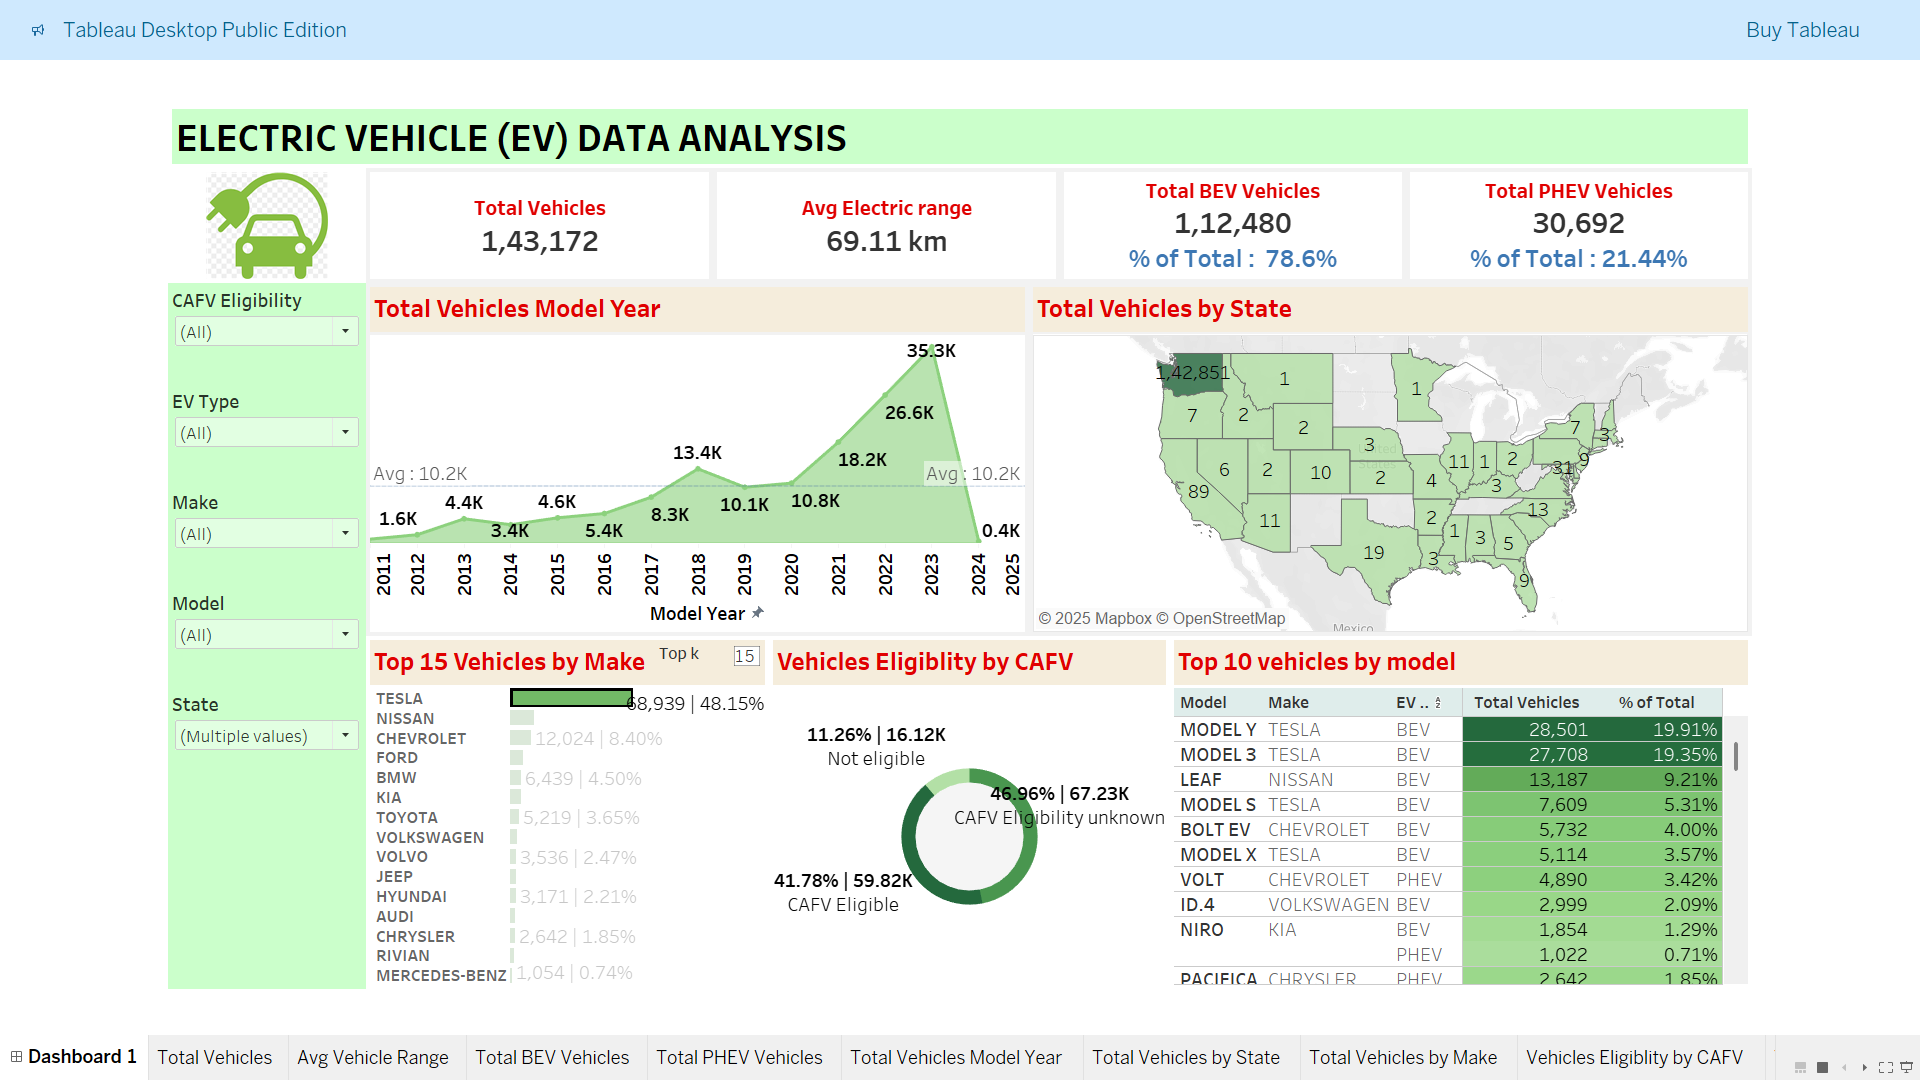

The page's visual inventory and layout, read from the dashboard file:
{"tool":"tableau","page":{"name":"Dashboard 1","canvas":[1600,900],"ordinal":0},"visuals":[{"type":"title","box":[8,8,1584,63]},{"type":"image","param":"C:/Users/deepa/Desktop/Tableau/electrical_report/download (1).png","box":[8,71,198,115]},{"type":"worksheet","title":"Total Vehicles","mark":"Automatic","box":[206,71,347,115]},{"type":"worksheet","title":"Avg Vehicle Range","mark":"Automatic","box":[553,71,347,115]},{"type":"worksheet","title":"Total BEV Vehicles","mark":"Automatic","box":[900,71,346,115]},{"type":"worksheet","title":"Total PHEV Vehicles","mark":"Automatic","box":[1246,71,346,115]},{"type":"filter","title":"Total Vehicles by State","param":"[federated.1j5pwec0h08z1h183ic7u17r7p17].[none:Clean Alternative Fuel Vehicle (C","box":[8,186,198,101]},{"type":"worksheet","title":"Total Vehicles Model Year","mark":"Area","rows":["Calculation_1466484681718288384","Calculation_1466484681718288384"],"cols":["Model Year"],"box":[206,186,663,353]},{"type":"worksheet","title":"Total Vehicles by State","mark":"Automatic","box":[869,186,723,353]},{"type":"filter","title":"Total Vehicles Model Year","param":"[federated.1j5pwec0h08z1h183ic7u17r7p17].[none:Electric Vehicle Type:nk]","box":[8,287,198,101]},{"type":"filter","title":"Total Vehicles Model Year","param":"[federated.1j5pwec0h08z1h183ic7u17r7p17].[none:Make:nk]","box":[8,388,198,101]},{"type":"filter","title":"Total Vehicles Model Year","param":"[federated.1j5pwec0h08z1h183ic7u17r7p17].[none:Model:nk]","box":[8,489,198,101]},{"type":"worksheet","title":"Total Vehicles by Make","mark":"Automatic","rows":["Make"],"cols":["Calculation_1466484681718288384"],"box":[206,539,403,353]},{"type":"worksheet","title":"Vehicles Eligiblity by CAFV","mark":"Pie","rows":["Calculation_1466484681734860807","Calculation_1466484681734860807"],"box":[609,539,401,353]},{"type":"worksheet","title":"Top 10 vehicles by model","mark":"Square","rows":["Model","Make","Electric Vehicle Type"],"box":[1010,539,582,353]},{"type":"parameter","param":"[Parameters].[Parameter 1]","box":[499,546,104,32]},{"type":"filter","title":"Total Vehicles Model Year","param":"[federated.1j5pwec0h08z1h183ic7u17r7p17].[none:State:nk]","box":[8,590,198,101]},{"type":"blank","box":[8,691,198,101]},{"type":"blank","box":[8,792,198,100]}]}

Visuals, with their boxes on the page's 1600x900 design canvas (x1, y1, x2, y2). These are canvas units, not pixel positions in the 1920x1080 screenshot, which may show the page scaled, cropped or inside an application window:
title: (8, 8, 1592, 71)
image: (8, 71, 206, 186)
"Total Vehicles" worksheet: (206, 71, 553, 186)
"Avg Vehicle Range" worksheet: (553, 71, 900, 186)
"Total BEV Vehicles" worksheet: (900, 71, 1246, 186)
"Total PHEV Vehicles" worksheet: (1246, 71, 1592, 186)
"Total Vehicles by State" filter: (8, 186, 206, 287)
"Total Vehicles Model Year" worksheet (Area marks): (206, 186, 869, 539)
"Total Vehicles by State" worksheet: (869, 186, 1592, 539)
"Total Vehicles Model Year" filter: (8, 287, 206, 388)
"Total Vehicles Model Year" filter: (8, 388, 206, 489)
"Total Vehicles Model Year" filter: (8, 489, 206, 590)
"Total Vehicles by Make" worksheet: (206, 539, 609, 892)
"Vehicles Eligiblity by CAFV" worksheet (Pie marks): (609, 539, 1010, 892)
"Top 10 vehicles by model" worksheet (Square marks): (1010, 539, 1592, 892)
parameter: (499, 546, 603, 578)
"Total Vehicles Model Year" filter: (8, 590, 206, 691)
blank: (8, 691, 206, 792)
blank: (8, 792, 206, 892)
